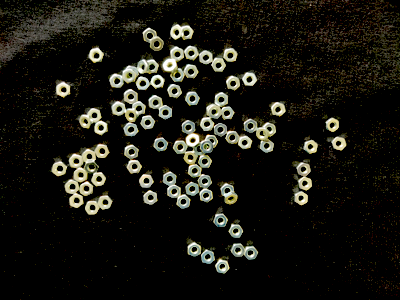nut: (56, 83, 72, 99), (52, 162, 68, 177), (89, 48, 105, 63), (70, 193, 85, 209), (98, 196, 114, 211), (150, 36, 165, 52), (167, 84, 183, 99), (185, 92, 201, 107), (272, 102, 287, 118), (294, 191, 309, 207), (65, 180, 80, 195), (69, 154, 84, 169), (144, 191, 159, 206), (124, 145, 139, 160), (112, 102, 127, 117), (110, 74, 125, 89), (122, 69, 137, 84), (170, 68, 185, 83), (223, 48, 238, 63), (231, 243, 246, 258), (200, 140, 215, 155), (208, 105, 223, 120), (226, 76, 241, 91), (238, 136, 253, 151), (260, 139, 275, 154), (94, 121, 108, 137), (149, 95, 163, 111), (153, 138, 169, 152), (171, 47, 185, 63), (170, 25, 184, 41), (185, 46, 199, 62), (182, 120, 196, 136), (186, 182, 200, 198), (331, 137, 347, 151), (74, 168, 88, 183), (85, 202, 100, 216), (80, 182, 94, 197), (92, 173, 107, 187), (85, 160, 100, 174), (95, 145, 110, 159), (79, 115, 94, 129), (139, 175, 154, 189), (124, 123, 139, 137), (124, 90, 138, 105), (125, 108, 139, 123), (151, 75, 165, 90), (143, 28, 157, 43), (159, 105, 173, 120), (168, 185, 182, 200), (177, 195, 191, 210), (163, 59, 178, 73), (184, 65, 199, 79), (212, 59, 227, 73), (173, 141, 188, 155), (202, 250, 216, 265), (214, 214, 229, 228), (229, 225, 244, 239), (200, 189, 214, 204), (198, 175, 212, 190), (188, 164, 202, 179), (184, 151, 199, 165), (198, 155, 213, 169), (214, 123, 228, 138), (215, 93, 229, 108), (243, 73, 258, 87), (225, 131, 240, 145), (244, 119, 258, 134), (298, 177, 313, 191), (296, 163, 311, 177), (304, 141, 319, 155), (127, 161, 143, 174), (88, 109, 102, 123), (132, 102, 146, 116), (136, 77, 150, 91), (141, 116, 155, 130), (244, 246, 258, 260), (224, 192, 238, 206), (186, 134, 200, 148), (205, 135, 219, 149), (201, 118, 215, 132), (263, 123, 277, 137), (137, 60, 150, 75), (164, 172, 177, 187), (200, 51, 213, 66), (188, 243, 201, 258), (216, 260, 229, 275), (193, 143, 208, 156), (256, 128, 271, 141), (326, 118, 339, 133), (126, 66, 139, 80), (221, 184, 235, 197), (221, 107, 235, 120), (182, 26, 194, 41), (83, 150, 96, 163), (148, 60, 159, 75), (207, 104, 217, 117)
